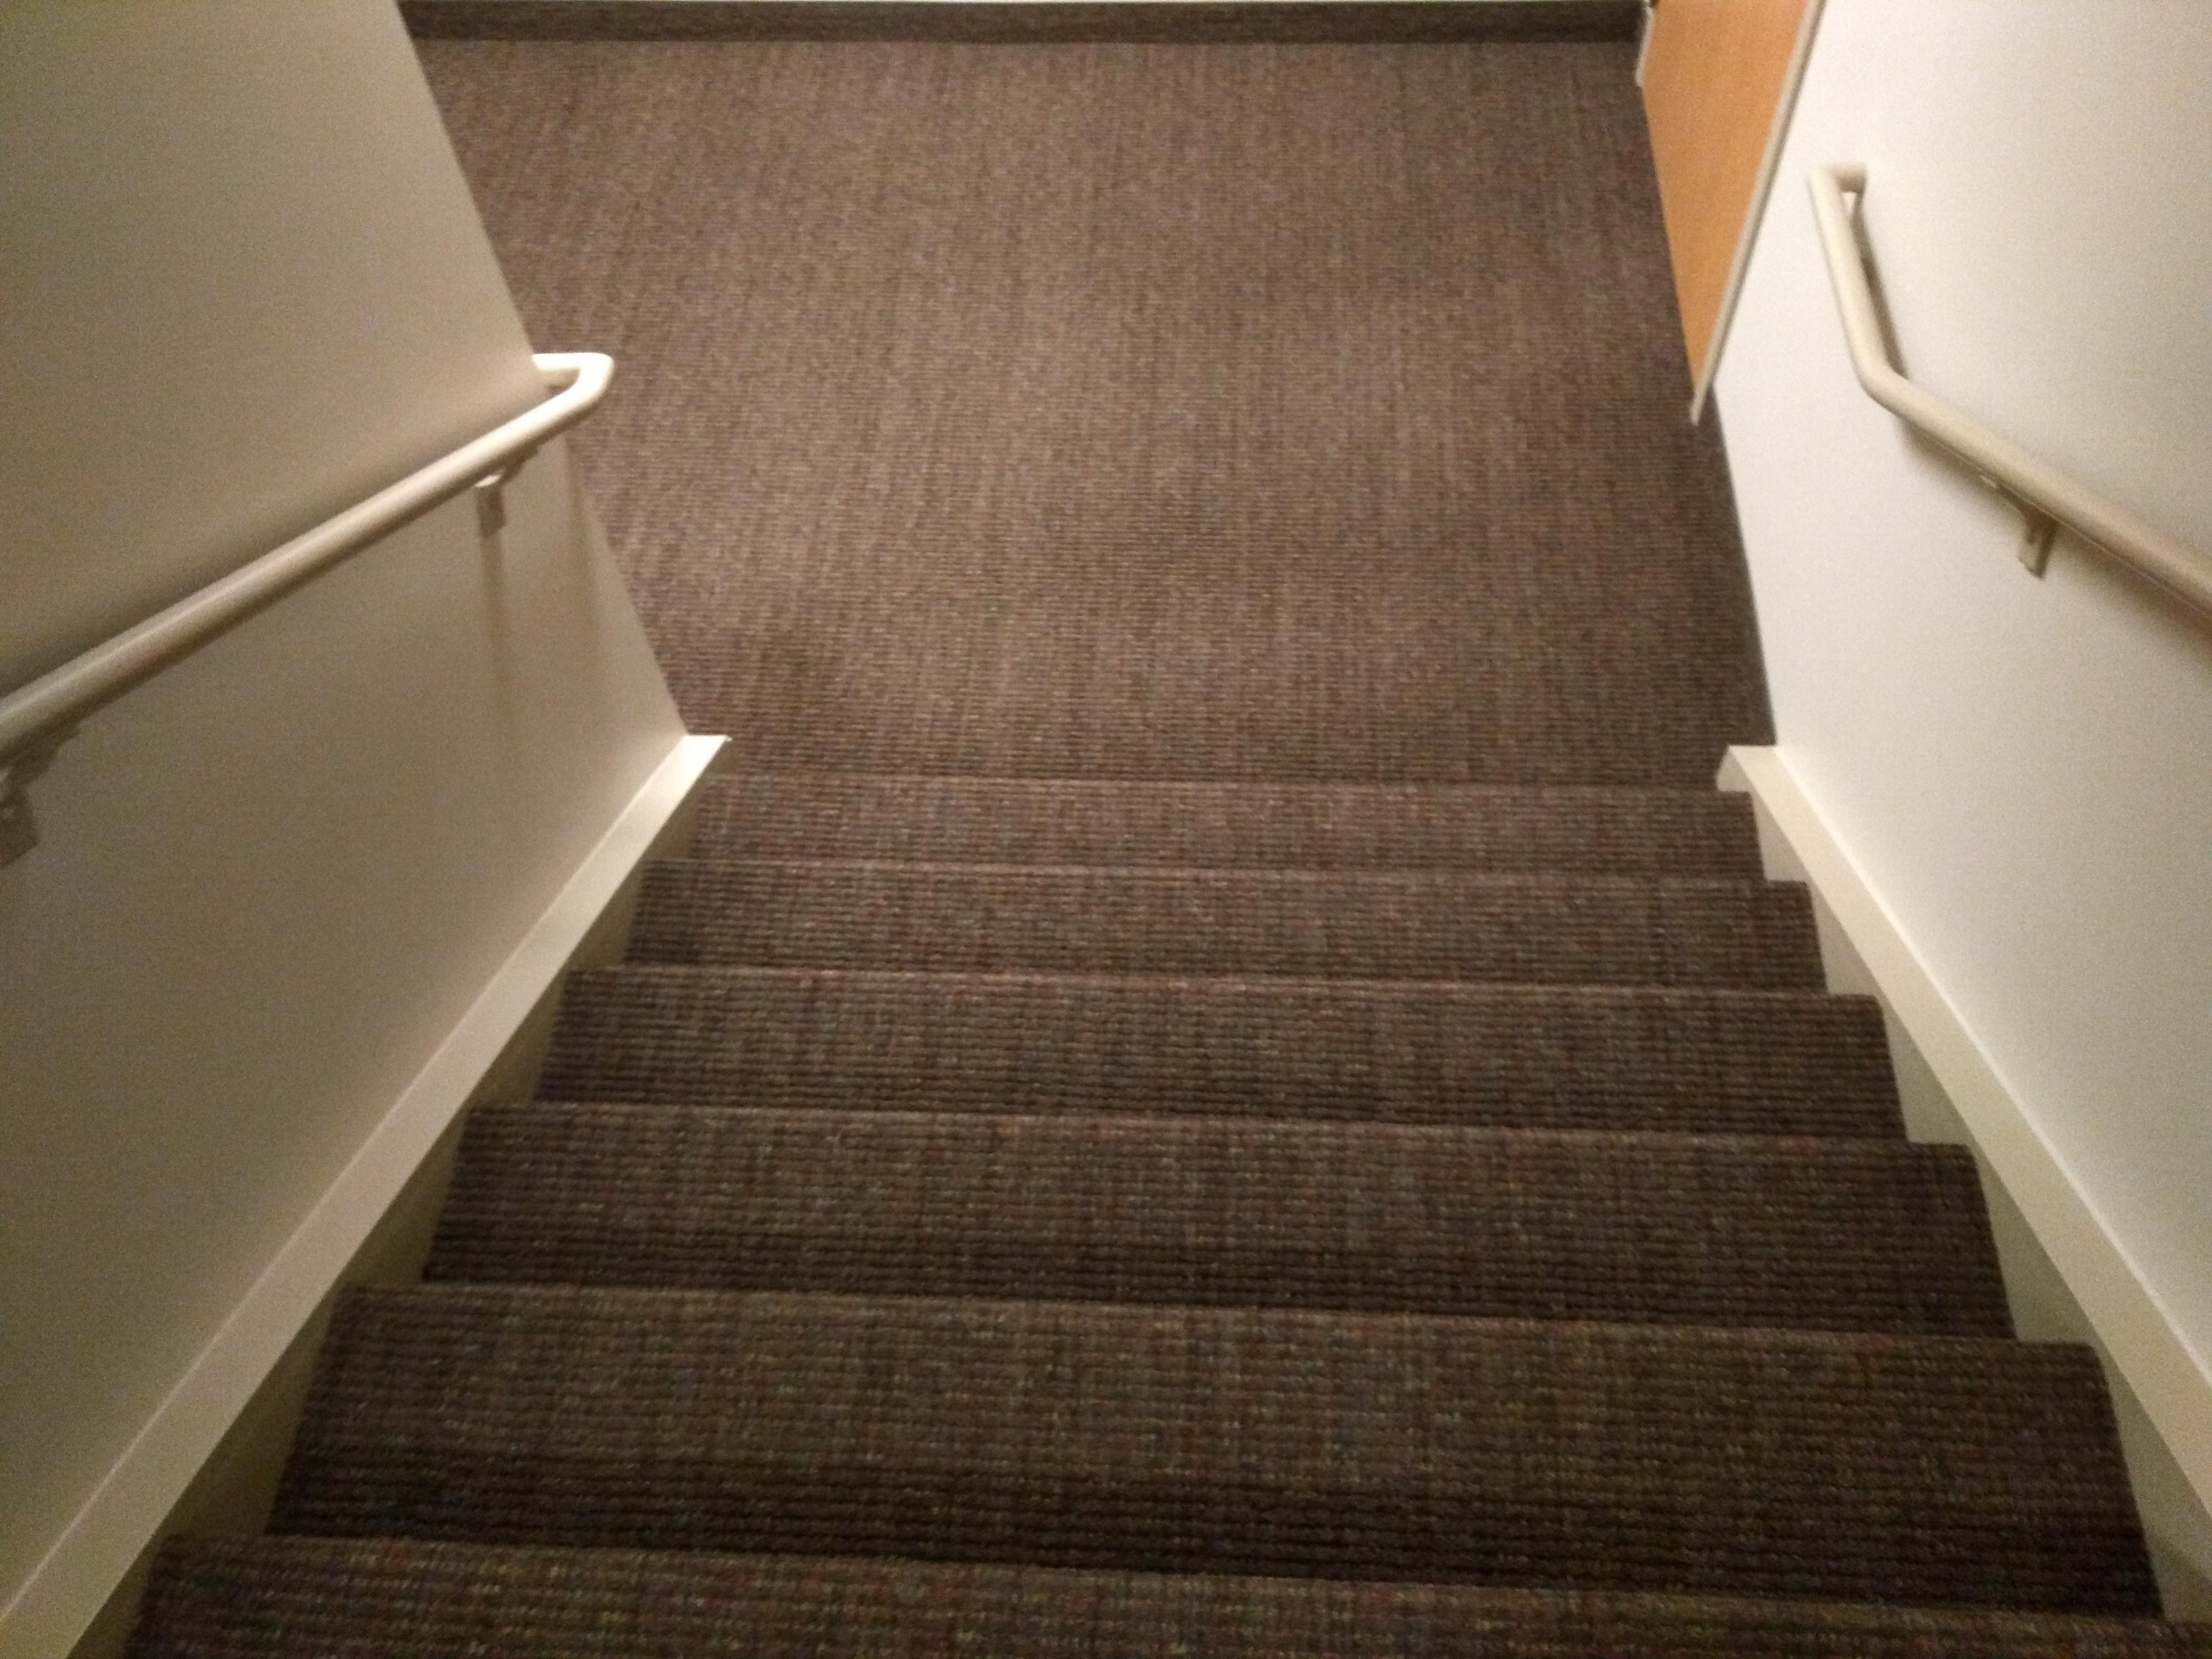stairs_down: (197, 749, 2161, 1595)
